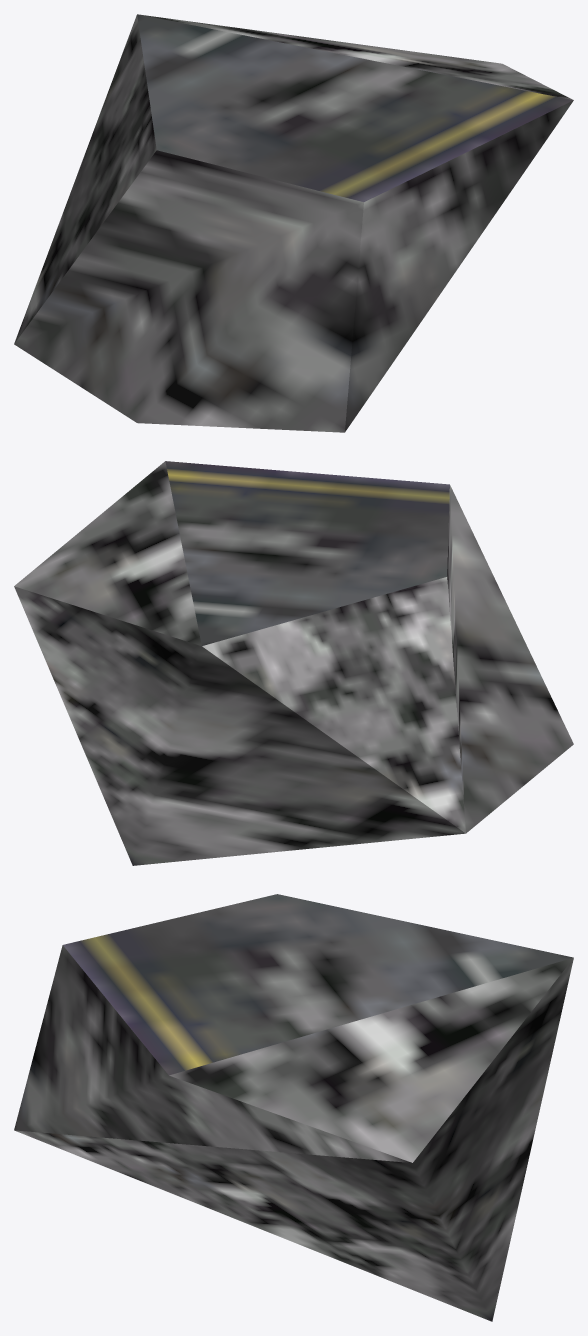
Rendered from Civilian - Civilian Building - Bridg D 02 - CBBridgD02.glb.
The picture shows the model from 3 angles, top to bottom: view 1: azimuth 30°, elevation 25°; view 2: azimuth 150°, elevation 25°; view 3: azimuth 270°, elevation 25°; orthographic projection. The views are drawn at different scales.
Parts seen in each view (by area): view 1: CBBRIDGD02; view 2: CBBRIDGD02; view 3: CBBRIDGD02.
Boxes of the visible parts, left/top/right/bottom form: CBBRIDGD02: left=14, top=14, right=573, bottom=432; CBBRIDGD02: left=14, top=461, right=573, bottom=865; CBBRIDGD02: left=14, top=894, right=573, bottom=1321.
Size of the model in its own units: 33.34 by 19.43 by 32.08.
Materials: 1 (1 with a texture image).
